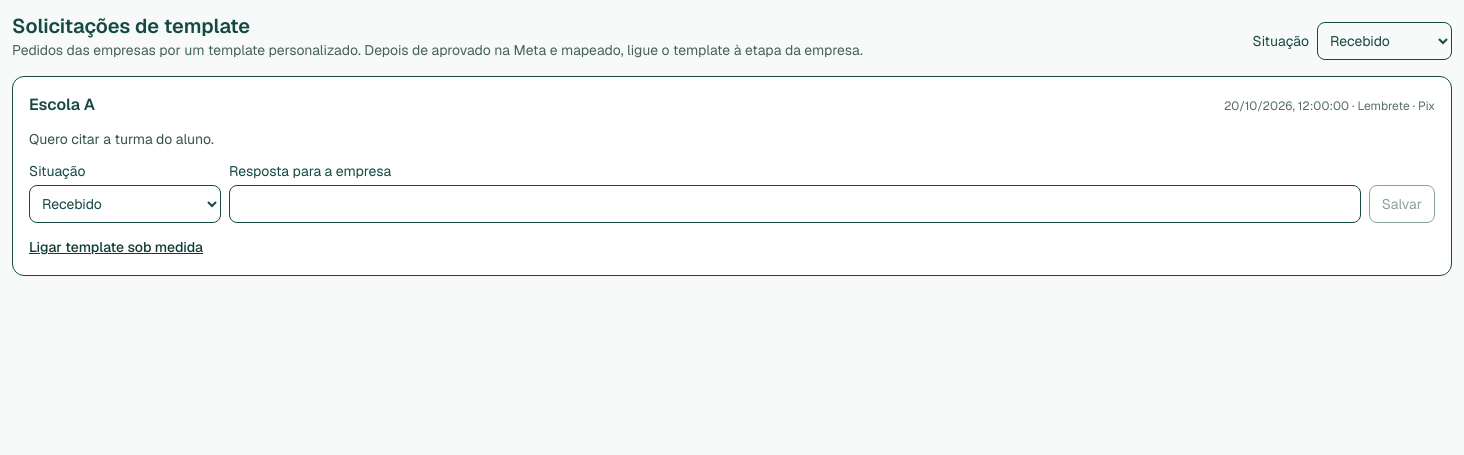
TemplateRequestsAdmin › links the custom template to the step of the request
This screenshot has width=1464, height=455.
Click the button "Ligar template sob medida". click: (116, 247)
box: [29,237,203,257]
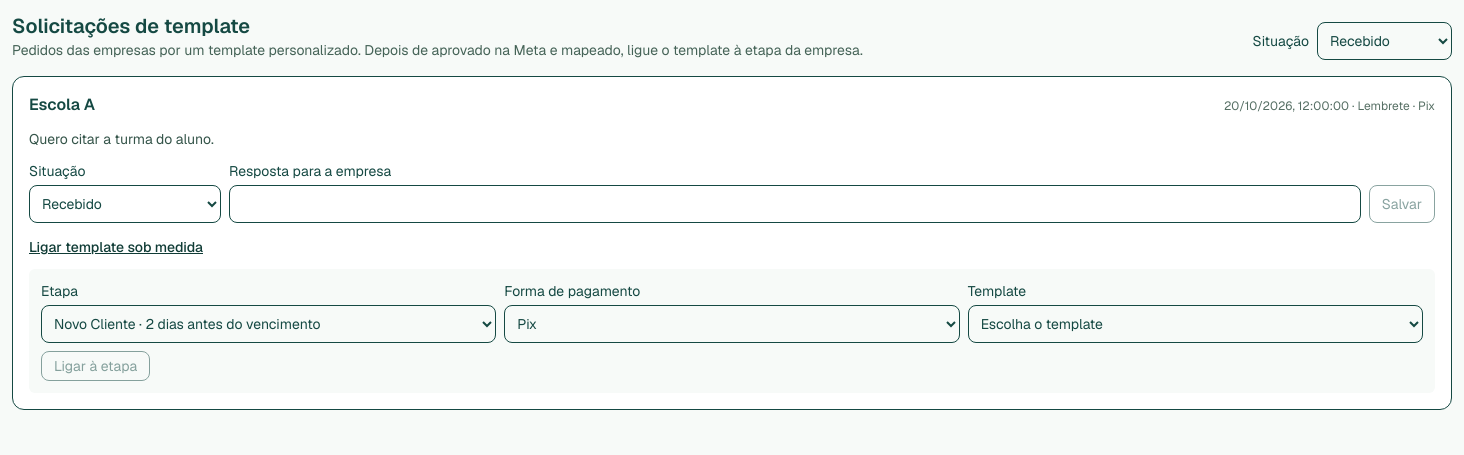
Now the dropdown labelled "Etapa" shows "Novo Cliente · 2 dias antes do vencimento", box [41,305,496,343]
Select "lembrete_escola" in the dropdown labelled "Template". click: (1195, 324)
box: [968,305,1423,343]
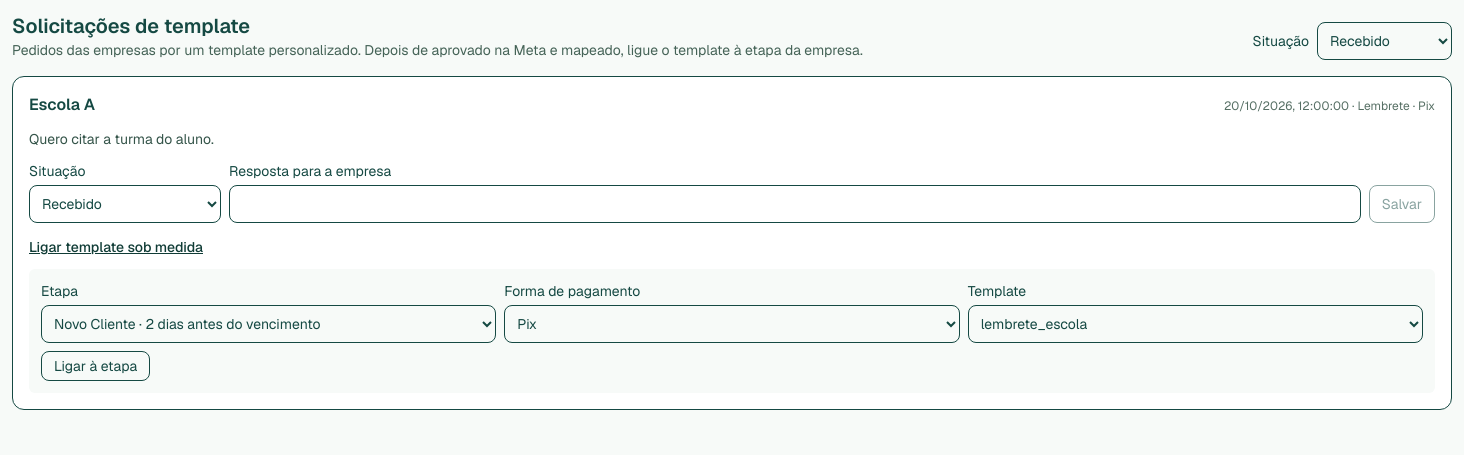
Click the button "Ligar à etapa". click: (96, 366)
box: [41,351,150,381]
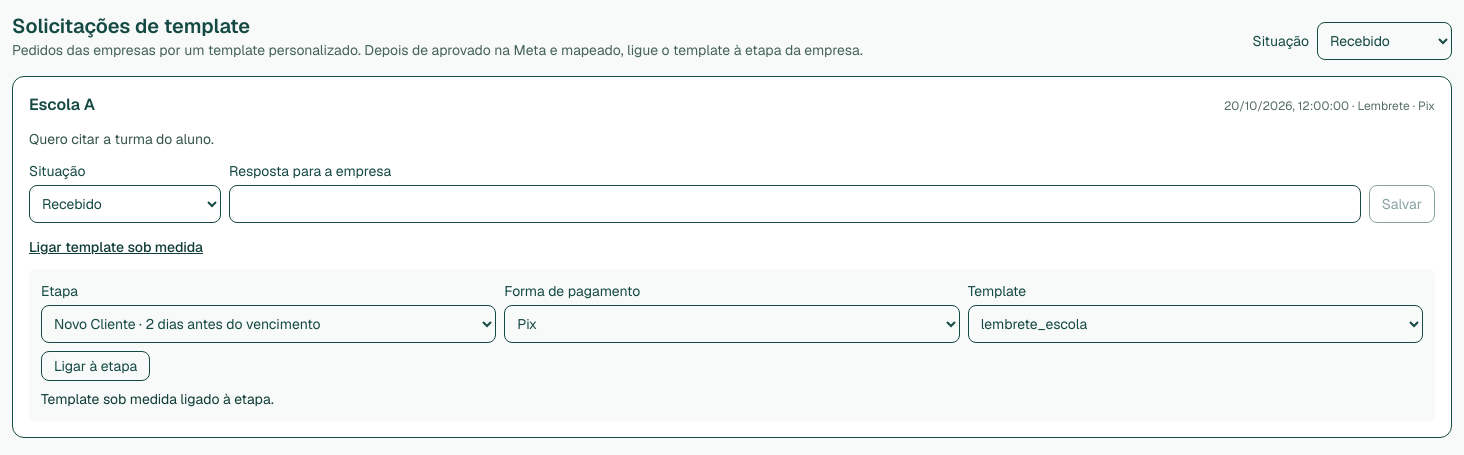
Now the text "Template sob medida ligado à etapa." is shown, box [41,390,274,408]
